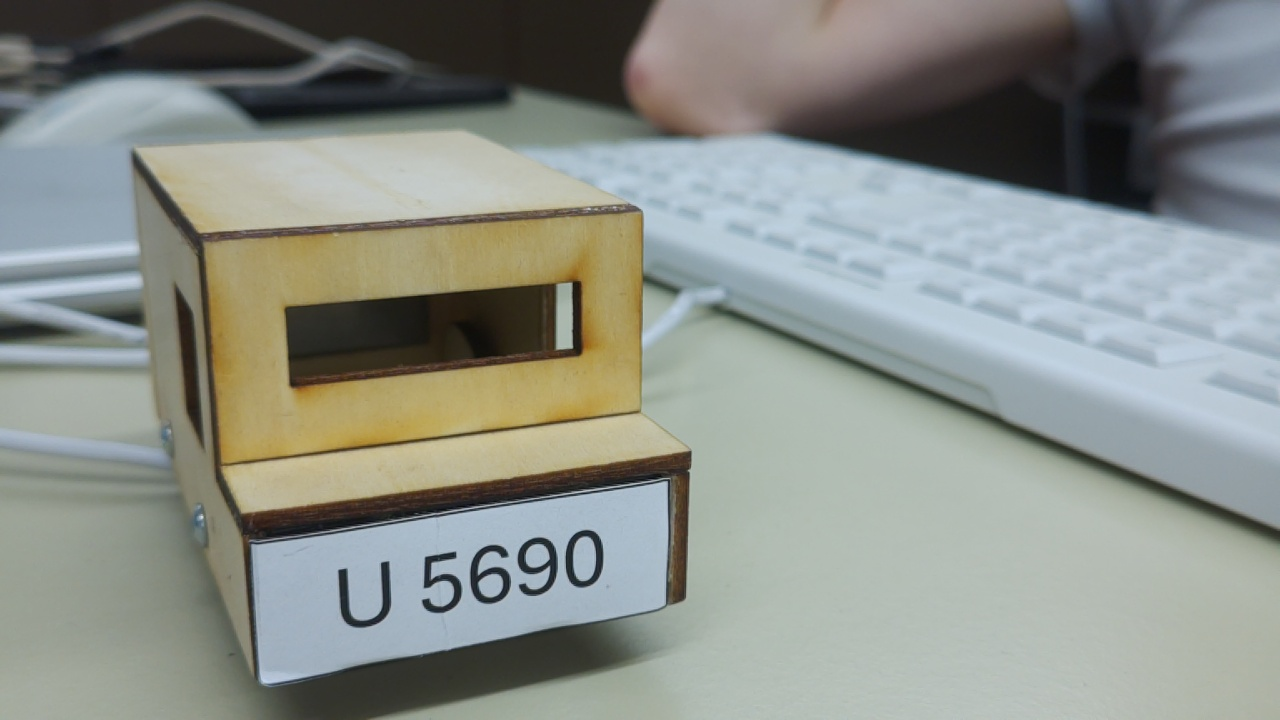license_plate: (239, 473, 673, 695)
